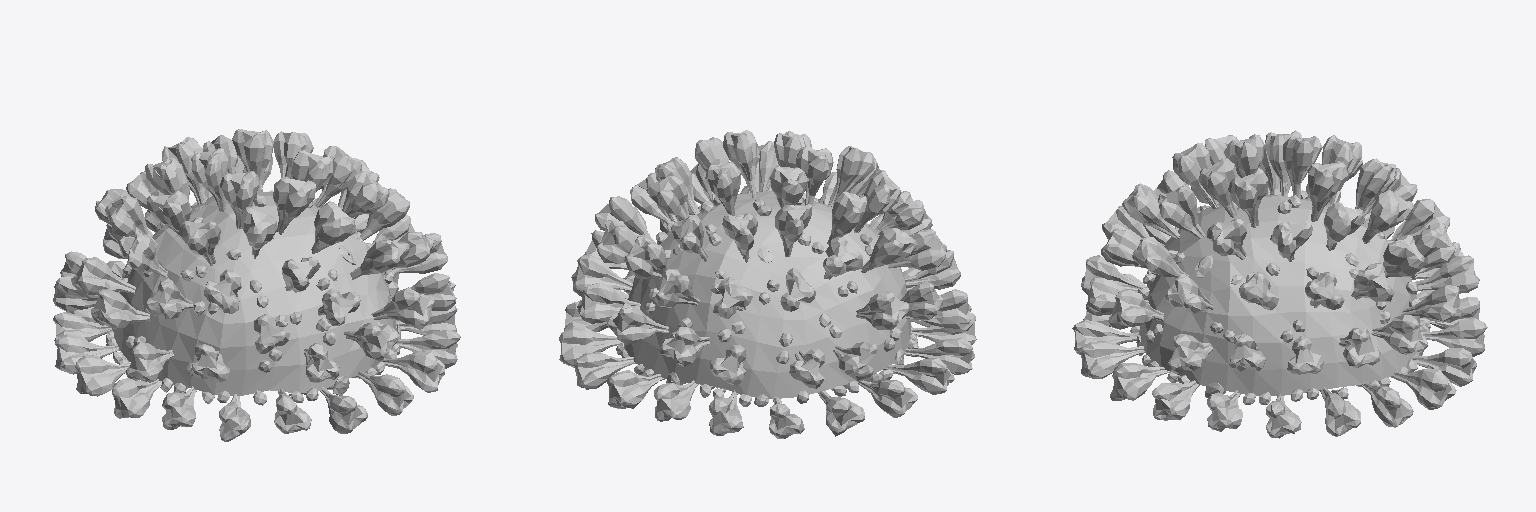
File: Corona Virus Intersection (LOW).obj
3 renders of one model, left to right at view 1: azimuth 30°, elevation 25°; view 2: azimuth 150°, elevation 25°; view 3: azimuth 270°, elevation 25°, orthographic.
Parts seen in each view (by area): view 1: Spike_Glycoprotein__S_, Envelope, M_Protein; view 2: Spike_Glycoprotein__S_, Envelope, M_Protein; view 3: Spike_Glycoprotein__S_, Envelope, M_Protein, Hemagglutinin_esterase_dimer__HE_.
Part boxes in pixels (bbox=[...]): Spike_Glycoprotein__S_: bbox=[53, 129, 460, 441]; Envelope: bbox=[112, 192, 396, 395]; M_Protein: bbox=[106, 185, 400, 403]; Spike_Glycoprotein__S_: bbox=[559, 130, 976, 438]; Envelope: bbox=[624, 191, 910, 398]; M_Protein: bbox=[616, 193, 918, 406]; Spike_Glycoprotein__S_: bbox=[1072, 130, 1487, 438]; Envelope: bbox=[1139, 195, 1420, 395]; M_Protein: bbox=[1130, 190, 1430, 404]; Hemagglutinin_esterase_dimer__HE_: bbox=[1136, 255, 1423, 397].
Size of the model in its own units: 62.54 by 34.88 by 62.59.